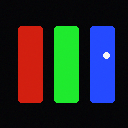0 point: (103, 52, 109, 58)
